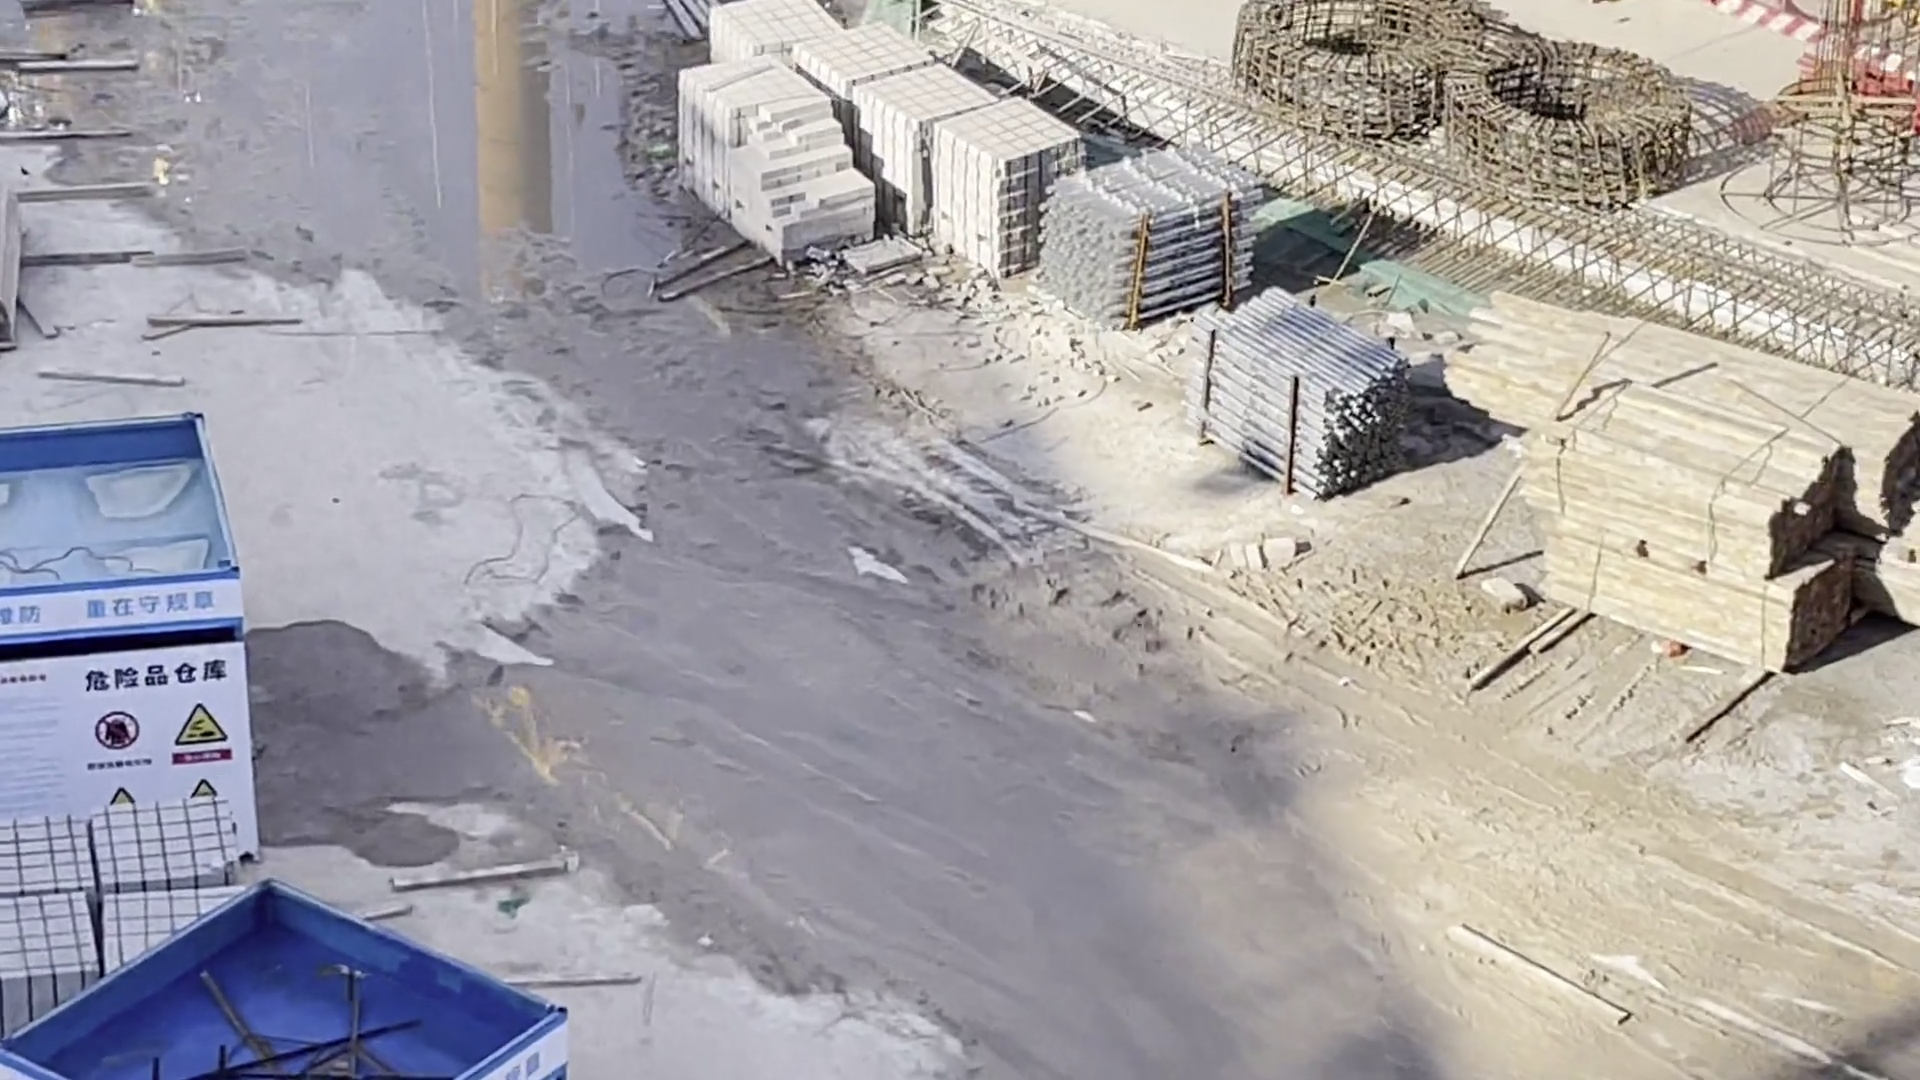brick: (700, 5, 1025, 270)
scaffold: (1196, 305, 1399, 480), (1048, 156, 1226, 301)
slogan: (4, 582, 256, 640)
wood: (1503, 297, 1920, 678)
